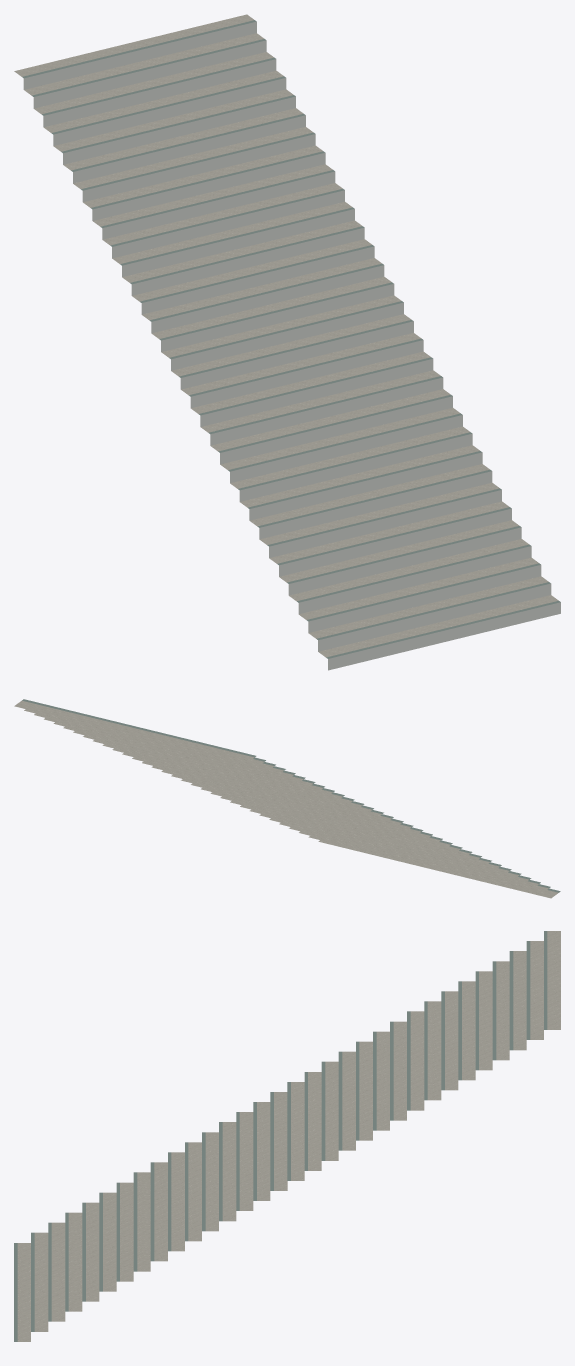
File: stair-flight.glb
3 views of the same model, one above another, from view 1: azimuth 30°, elevation 25°; view 2: azimuth 150°, elevation 25°; view 3: azimuth 270°, elevation 25° (orthographic). The views are drawn at different scales.
Parts seen in each view (by area): view 1: StairFlight_Solid; view 2: StairFlight_Solid; view 3: StairFlight_Solid.
Part boxes in pixels (x1,y1,x2,y2): StairFlight_Solid: (14, 14, 560, 670); StairFlight_Solid: (14, 699, 560, 898); StairFlight_Solid: (14, 931, 560, 1341).
Size of the model in its own units: 6.6 by 10 by 15.4.
Materials: 3 (1 with a texture image).
